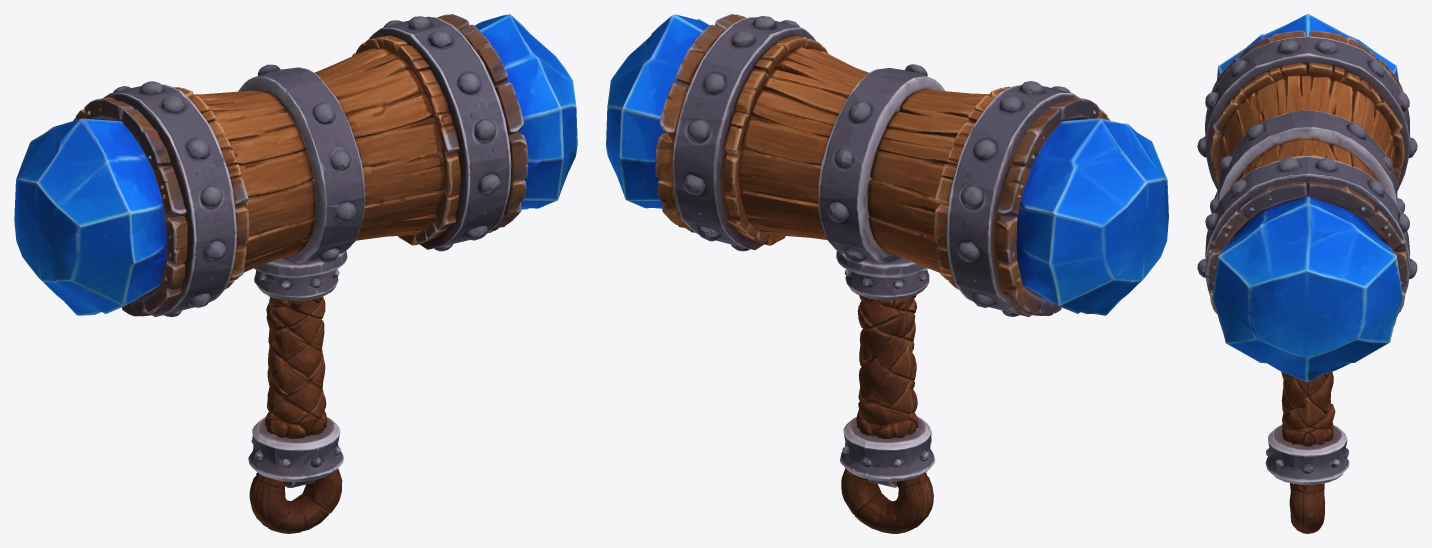
Rendered from crystal-hammer.glb.
The picture shows the model from 3 angles, left to right: view 1: azimuth 30°, elevation 25°; view 2: azimuth 150°, elevation 25°; view 3: azimuth 270°, elevation 25°; orthographic projection. The views are drawn at different scales.
Parts seen in each view (by area): view 1: Mesh_0; view 2: Mesh_0; view 3: Mesh_0.
Part boxes in pixels (<box>): Mesh_0: <box>14,14,577,533</box>; Mesh_0: <box>606,14,1168,533</box>; Mesh_0: <box>1197,14,1417,533</box>.
Bounding box in the file's own units: 1.9 × 1.65 × 0.7698.
Materials: 1 (1 with a texture image).
